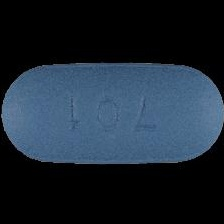53808-0805: (0, 0, 224, 224)
